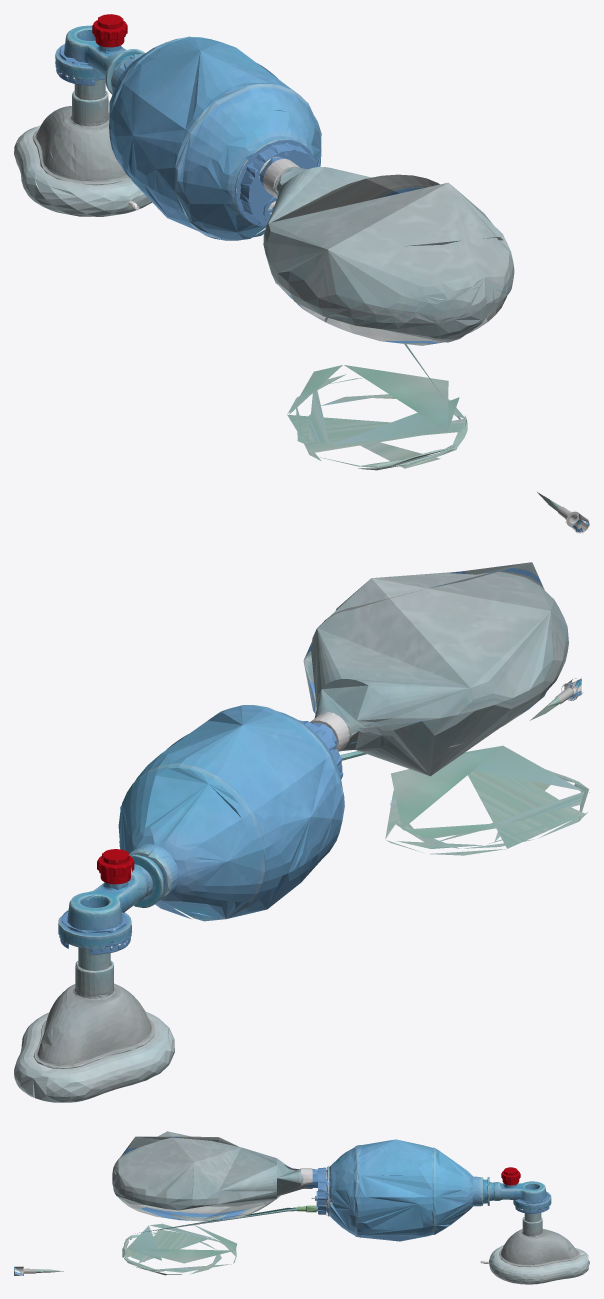
The model's file is bavu.glb.
The picture shows the model from 3 angles, top to bottom: view 1: azimuth 30°, elevation 25°; view 2: azimuth 150°, elevation 25°; view 3: azimuth 270°, elevation 25°; orthographic projection. The views are drawn at different scales.
Visible parts, largest first — view 1: ballon, reservoir, masque; view 2: ballon, reservoir, masque; view 3: ballon, reservoir, masque.
Part boxes in pixels (x1,y1,x2,y2): ballon: [32, 25, 514, 345]; reservoir: [14, 125, 589, 533]; masque: [92, 14, 316, 226]; ballon: [33, 562, 568, 1068]; reservoir: [14, 678, 589, 1102]; masque: [97, 720, 343, 884]; ballon: [112, 1131, 580, 1266]; reservoir: [14, 1168, 589, 1284]; masque: [306, 1166, 520, 1216].
Bounding box in the file's own units: 0.1156 × 0.1221 × 0.4989.
1 material, 1 textured.
